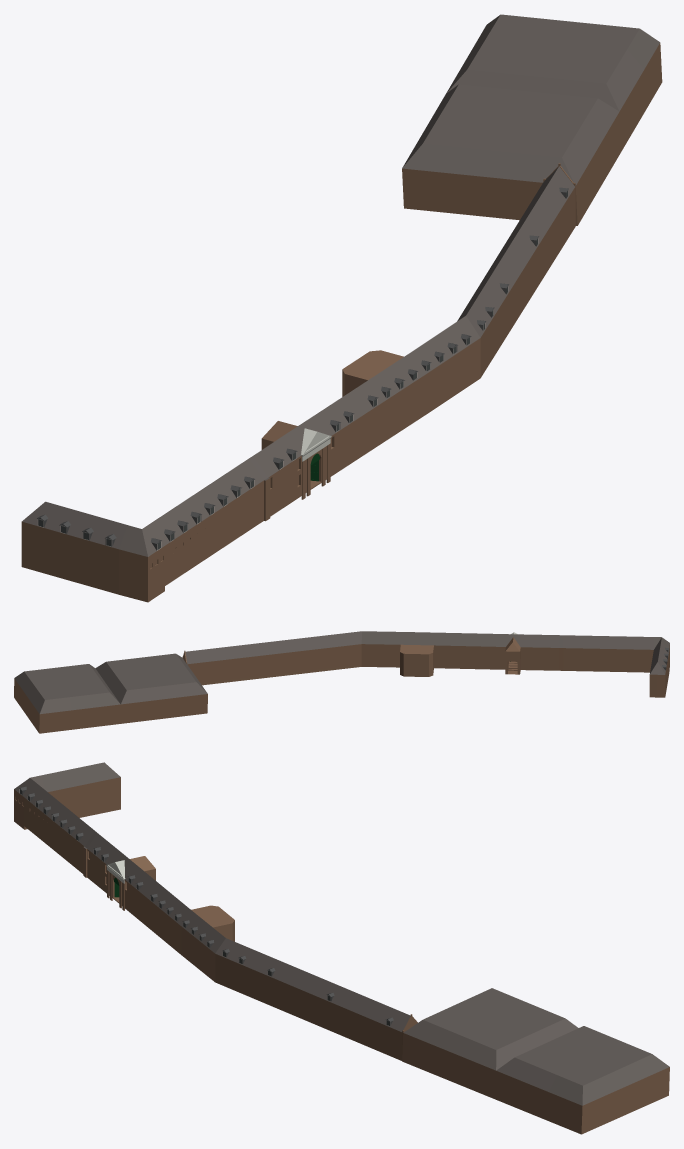
The model's file is Marineterrein_kattenburgerstraat.fbx.
The picture shows the model from 3 angles, top to bottom: view 1: azimuth 30°, elevation 25°; view 2: azimuth 150°, elevation 25°; view 3: azimuth 270°, elevation 25°; orthographic projection. The views are drawn at different scales.
Visible parts, largest first — view 1: Marineterrein_exterior_building, Cube.028, Cube.017; view 2: Marineterrein_exterior_building, Cube.028, Cube.017, Marineterrein_exterior_building.001; view 3: Cube.028, Marineterrein_exterior_building, Cube.017.
Part boxes in pixels (x1=…): Marineterrein_exterior_building: x1=21, y1=166, x2=575, y2=602; Cube.028: x1=402, y1=14, x2=662, y2=225; Cube.017: x1=342, y1=350, x2=403, y2=396; Marineterrein_exterior_building: x1=185, y1=631, x2=669, y2=697; Cube.028: x1=14, y1=653, x2=207, y2=733; Cube.017: x1=400, y1=644, x2=433, y2=676; Marineterrein_exterior_building.001: x1=505, y1=637, x2=520, y2=674; Cube.028: x1=402, y1=988, x2=669, y2=1134; Marineterrein_exterior_building: x1=14, y1=762, x2=410, y2=1060; Cube.017: x1=191, y1=905, x2=234, y2=941.
Bounding box in the file's own units: 190 × 12.38 × 156.
